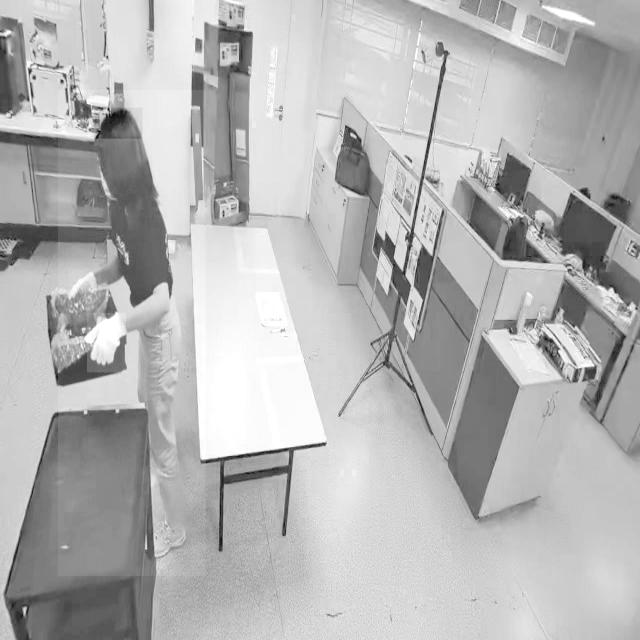hand_glove: (87, 313, 127, 373), (69, 268, 101, 310)
head_nohelmet: (95, 108, 143, 140)
person: (58, 90, 206, 577)
shoes: (149, 516, 189, 562)
